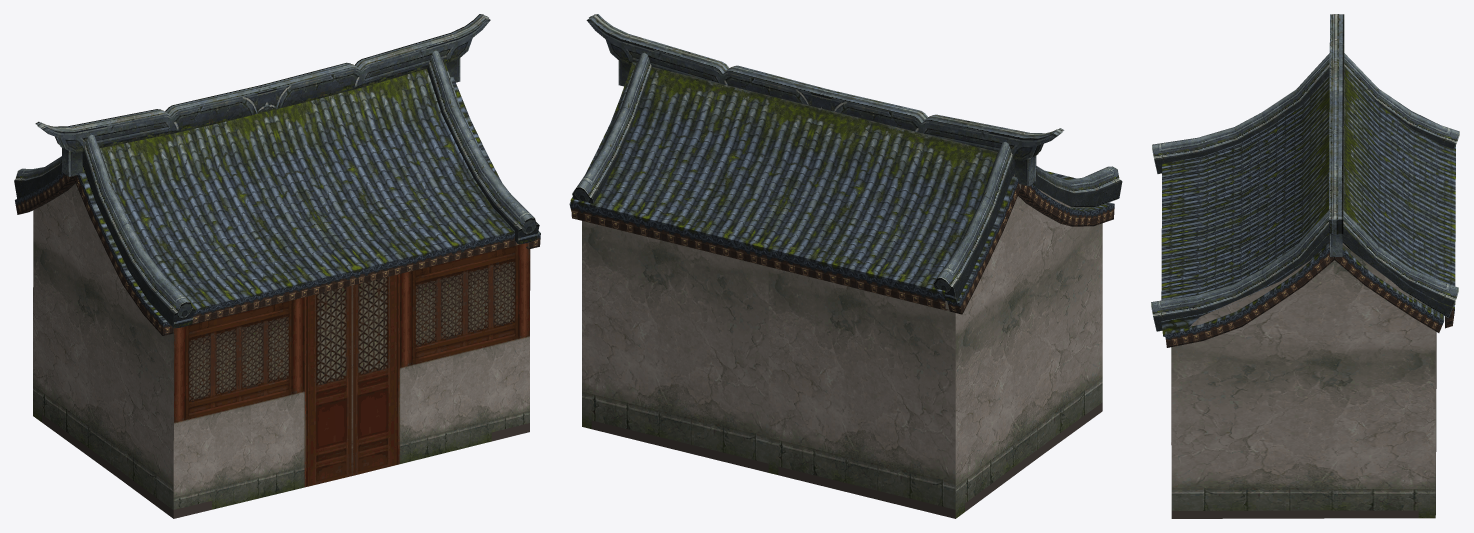
Rendered from jd_fang_1.FBX.
3 renders of one model, left to right at view 1: azimuth 30°, elevation 25°; view 2: azimuth 150°, elevation 25°; view 3: azimuth 270°, elevation 25°, orthographic. The views are drawn at different scales.
Visible parts, largest first — view 1: jd_fang_1; view 2: jd_fang_1; view 3: jd_fang_1.
Boxes of the visible parts, x1=… form: jd_fang_1: x1=14, y1=14, x2=540, y2=518; jd_fang_1: x1=569, y1=14, x2=1122, y2=518; jd_fang_1: x1=1151, y1=14, x2=1459, y2=518.
Bounding box in the file's own units: 732 × 534 × 463.
